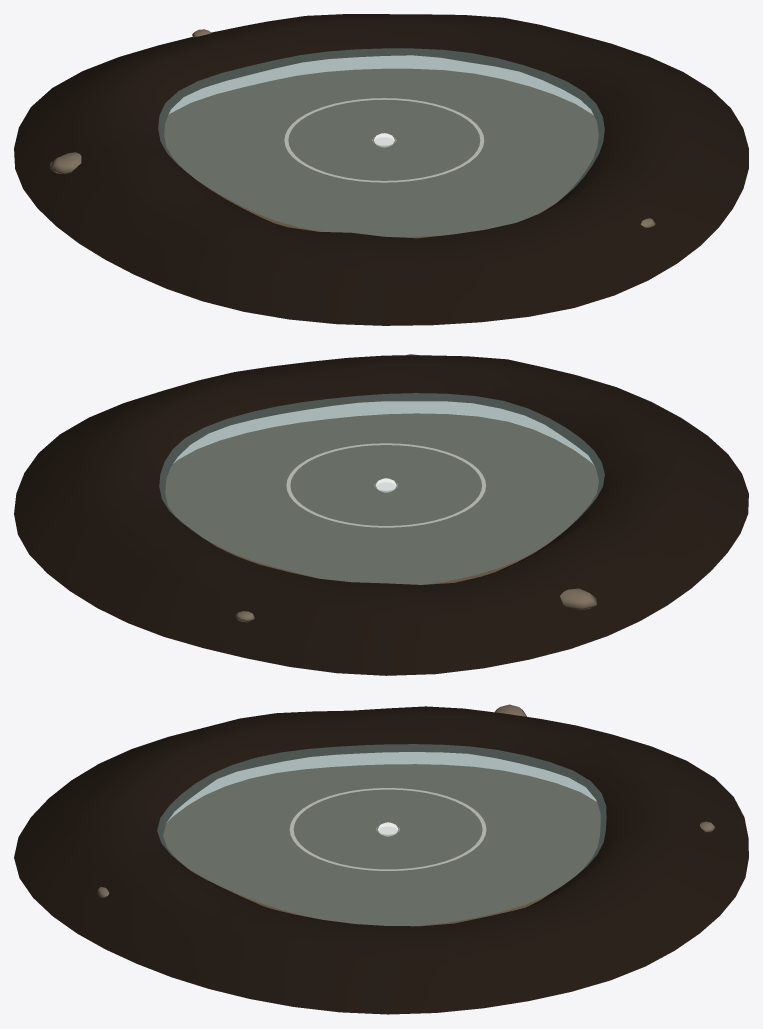
File: ripple_pool.glb
The picture shows the model from 3 angles, top to bottom: view 1: azimuth 30°, elevation 25°; view 2: azimuth 150°, elevation 25°; view 3: azimuth 270°, elevation 25°; orthographic projection.
Visible parts, largest first — view 1: RipplePool_Rim, RipplePool_PoolWater, RipplePool_PoolBed, RipplePool_Ripple_Old; view 2: RipplePool_Rim, RipplePool_PoolWater, RipplePool_PoolBed, RipplePool_Ripple_Old, RipplePool_Pebble6; view 3: RipplePool_Rim, RipplePool_PoolWater, RipplePool_PoolBed, RipplePool_Ripple_Old.
Part boxes in pixels (x1,y1,x2,y2): RipplePool_Rim: [14, 14, 748, 325]; RipplePool_PoolWater: [158, 48, 604, 236]; RipplePool_PoolBed: [164, 68, 598, 238]; RipplePool_Ripple_Old: [284, 98, 484, 182]; RipplePool_Rim: [14, 355, 748, 675]; RipplePool_PoolWater: [159, 393, 604, 584]; RipplePool_PoolBed: [165, 413, 598, 584]; RipplePool_Ripple_Old: [286, 443, 485, 527]; RipplePool_Pebble6: [560, 588, 596, 610]; RipplePool_Rim: [14, 706, 748, 1014]; RipplePool_PoolWater: [157, 744, 606, 926]; RipplePool_PoolBed: [163, 764, 600, 926]; RipplePool_Ripple_Old: [289, 788, 486, 870].
Size of the model in its own units: 2.41 by 0.1642 by 2.47.
